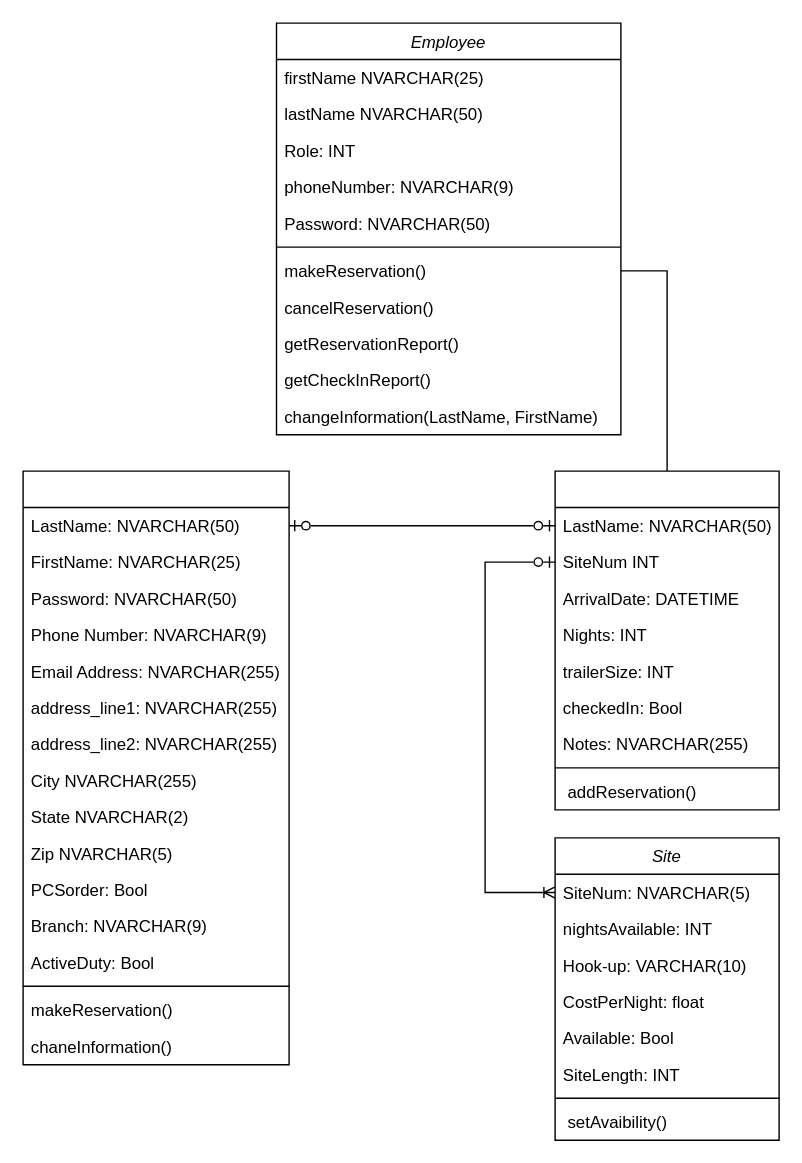
Image size: 802x1163. Some labels were removed from this diagram. The shapes that lost their labels are listed below. From the top down, each one's box as (x1, y1, x2, y2) in pixels, then its label:
(554, 470, 779, 810): Reservations
(22, 470, 289, 1065): Customer
